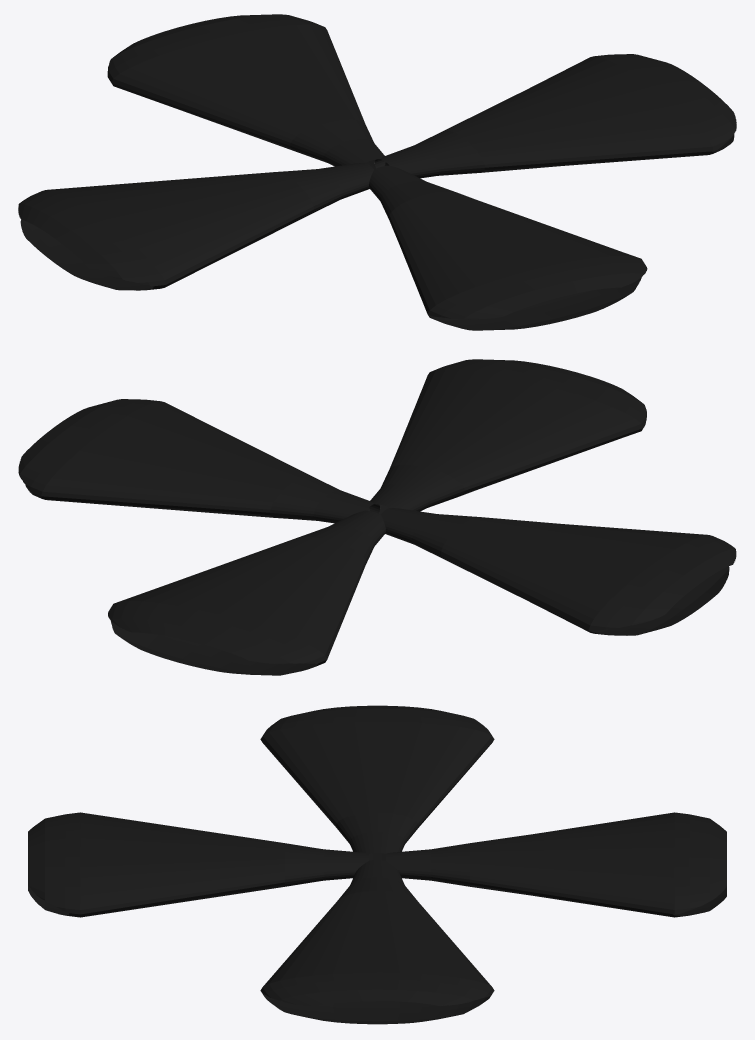
Rendered from biblade.fbx.
3 views of the same model, one above another, from view 1: azimuth 30°, elevation 25°; view 2: azimuth 150°, elevation 25°; view 3: azimuth 270°, elevation 25° (orthographic). The views are drawn at different scales.
Visible parts, largest first — view 1: bblade.002, bblade.001, bblade.003, bblade; view 2: bblade.002, bblade.001, bblade, bblade.003; view 3: bblade.003, bblade, bblade.001, bblade.002.
Boxes of the visible parts, box(x1,y1,x2,y2) form: bblade.002: box(18, 163, 373, 290); bblade.001: box(374, 54, 736, 178); bblade.003: box(369, 165, 647, 330); bblade: box(107, 14, 389, 169); bblade.002: box(381, 508, 736, 635); bblade.001: box(18, 399, 380, 523); bblade: box(108, 510, 385, 675); bblade.003: box(365, 359, 646, 514); bblade.003: box(28, 812, 368, 917); bblade: box(386, 812, 726, 917); bblade.001: box(260, 860, 494, 1024); bblade.002: box(260, 705, 494, 860).
Bounding box in the file's own units: 1253 × 67.69 × 1253.
